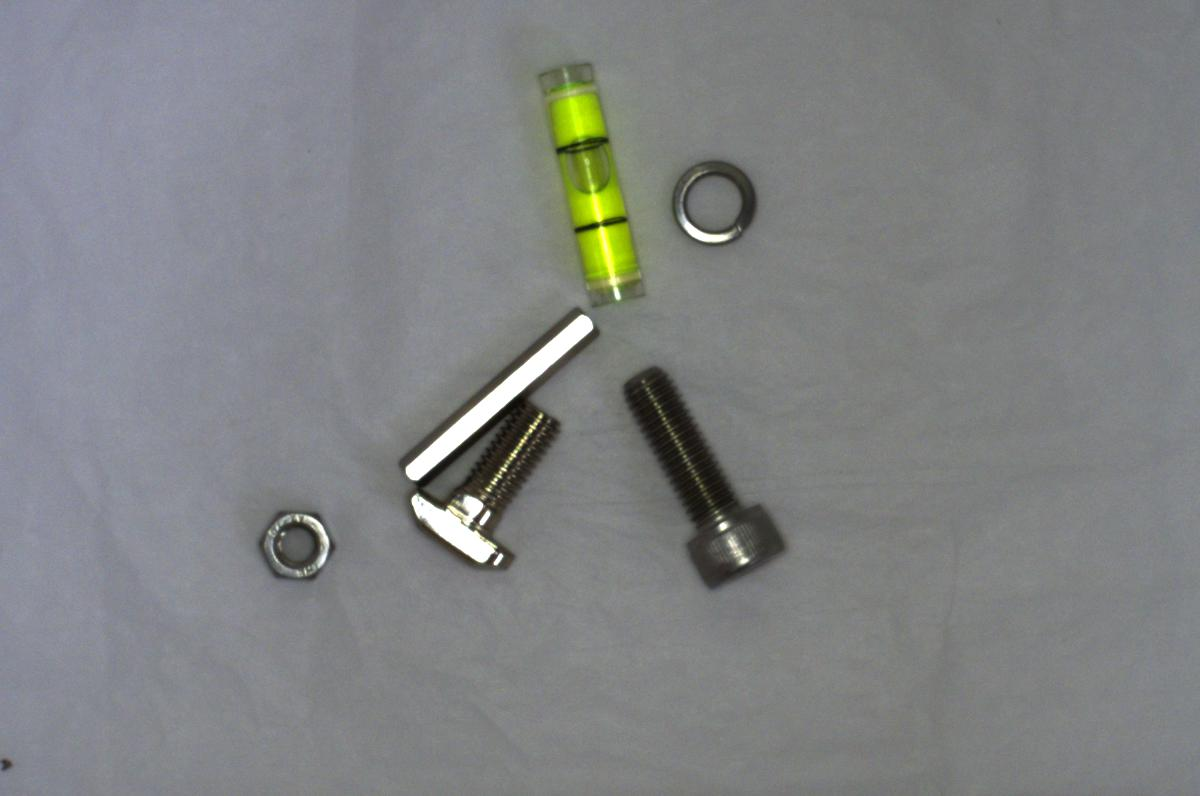Double hexagonal column: (395, 306, 597, 487)
Hexagon nut: (248, 500, 342, 585)
Horizontal bubble: (538, 48, 652, 308)
Spring washer: (667, 155, 764, 245)
T-shaped screw: (398, 399, 567, 569)
